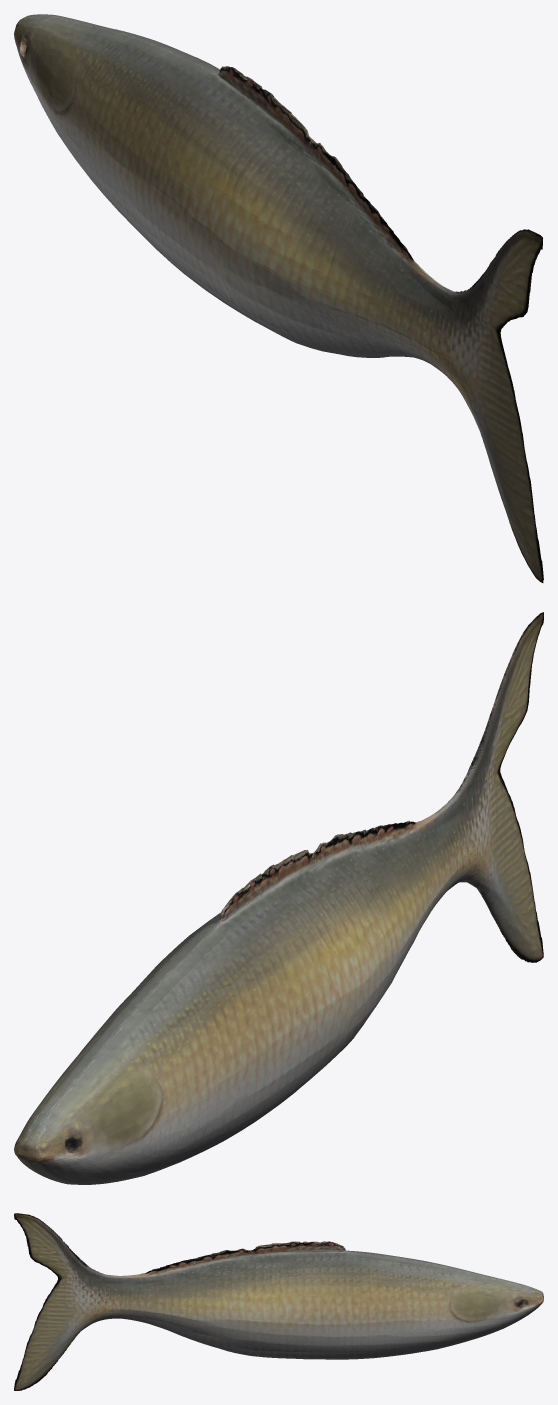
3 renders of one model, top to bottom at view 1: azimuth 30°, elevation 25°; view 2: azimuth 150°, elevation 25°; view 3: azimuth 270°, elevation 25°, orthographic. The views are drawn at different scales.
Visible parts, largest first — view 1: world; view 2: world; view 3: world.
Part boxes in pixels (left/top/right/bottom): world: left=14, top=14, right=543, bottom=582; world: left=14, top=612, right=543, bottom=1184; world: left=14, top=1213, right=543, bottom=1390.
Bounding box in the file's own units: 0.147 × 0.3702 × 1.
Materials: 1 (1 with a texture image).
